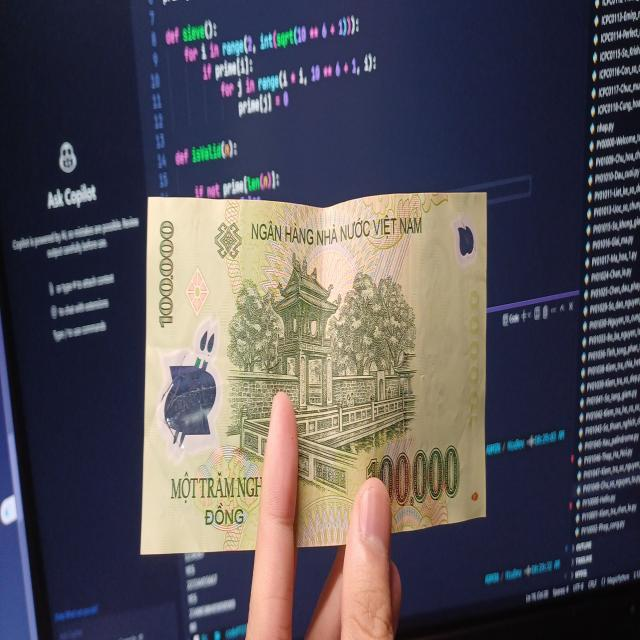100 000 VND: (142, 188, 488, 552)
